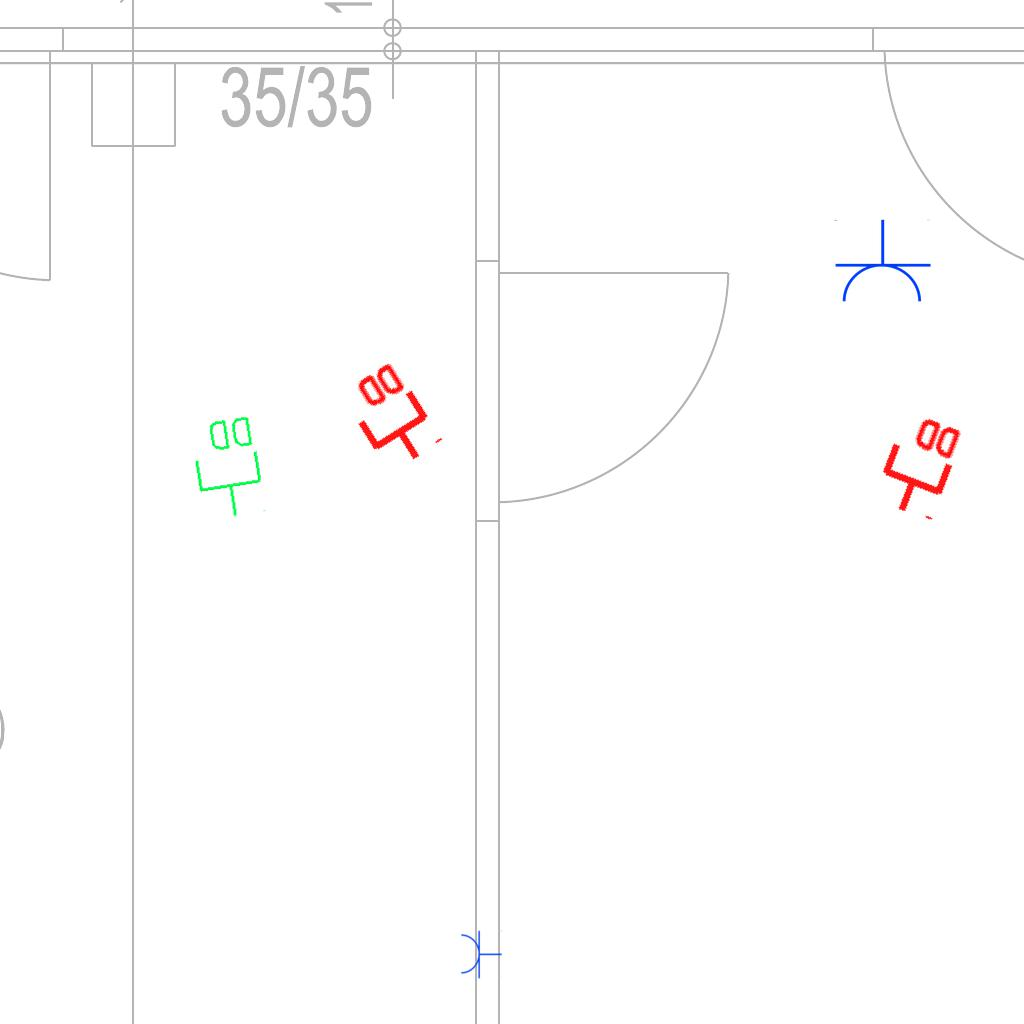Datenanschluss_zweifach: (332, 355, 447, 480), (866, 404, 969, 525), (186, 411, 271, 524)
Schukosteckdose_einfach: (832, 219, 932, 306), (459, 929, 502, 979)
